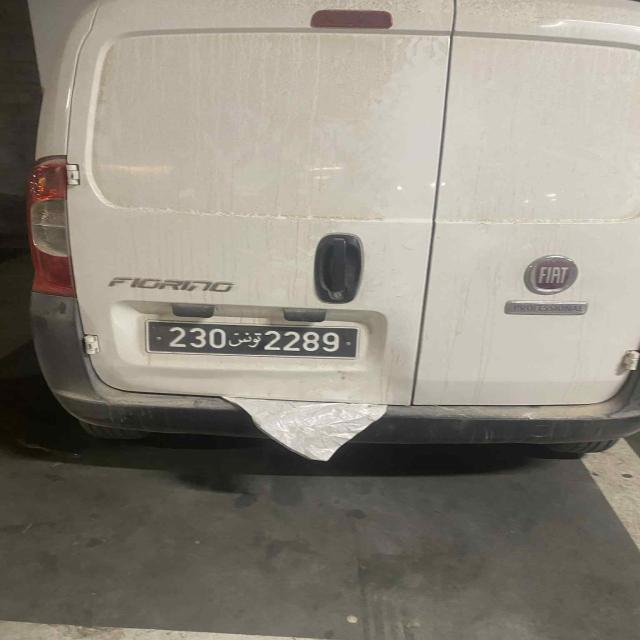licence plate: (149, 323, 358, 356)
